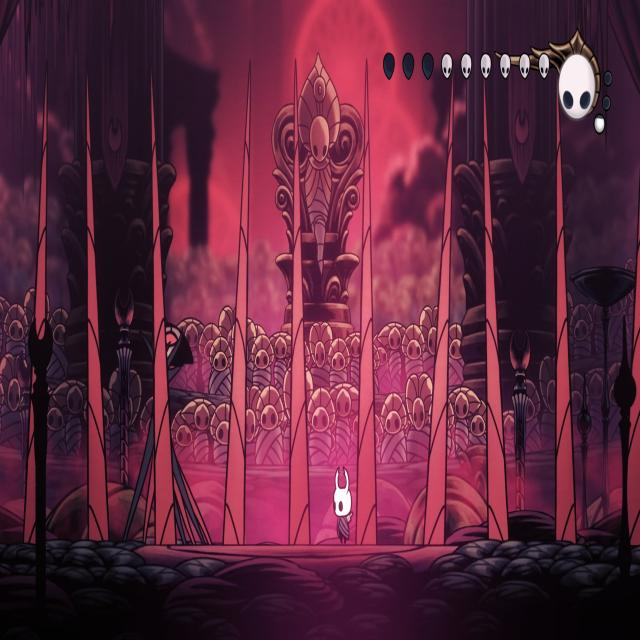Grimm: (121, 324, 214, 546)
Player: (330, 461, 357, 546)
Spikes: (420, 155, 453, 543), (22, 98, 48, 544), (82, 144, 111, 540), (484, 144, 512, 542), (150, 148, 178, 546), (221, 144, 247, 546), (287, 128, 312, 546), (551, 157, 578, 540), (354, 141, 378, 548), (620, 177, 640, 544)
